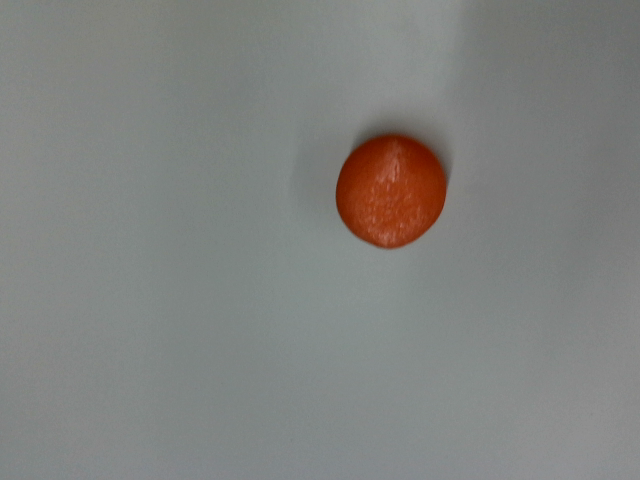orange: (312, 112, 468, 268)
